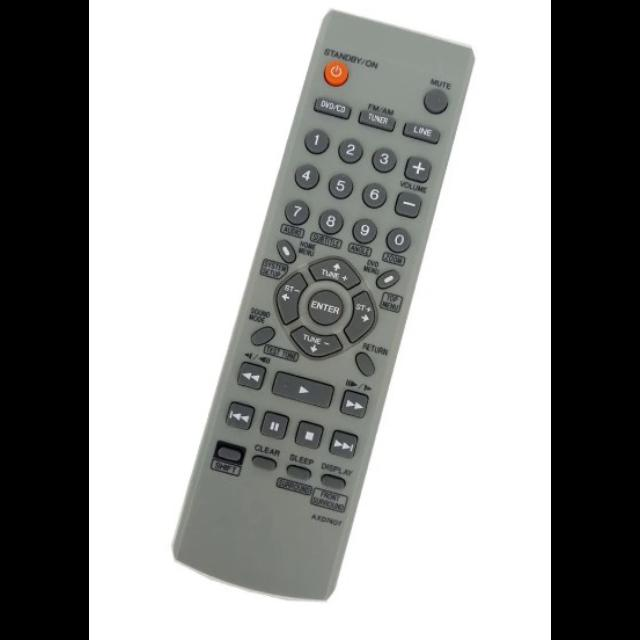TV-Remote-Control: (171, 9, 476, 605)
